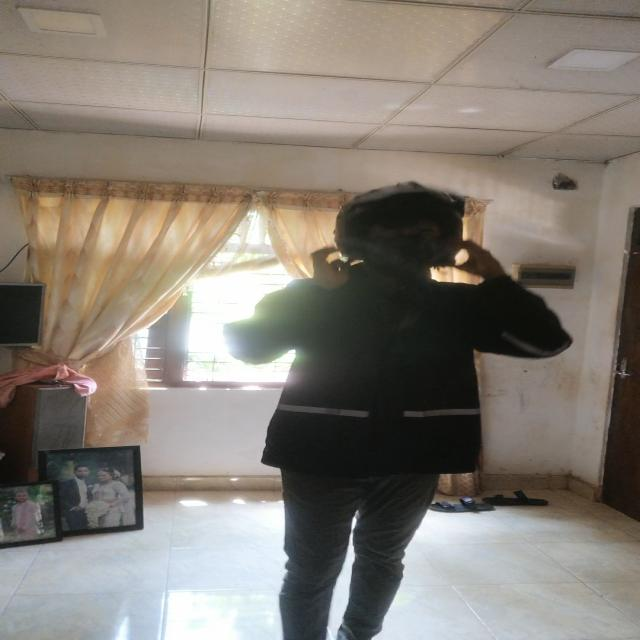Helmet_Wearer: (317, 182, 482, 282)
Jacket_Wearer: (224, 268, 566, 507)
Person: (225, 181, 567, 640)
